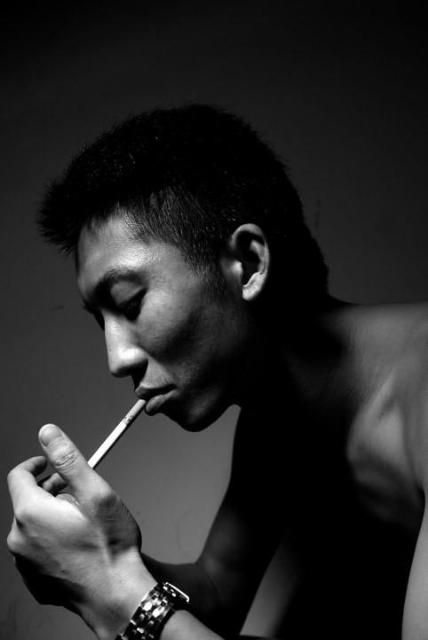Cigarette: (91, 398, 144, 474)
